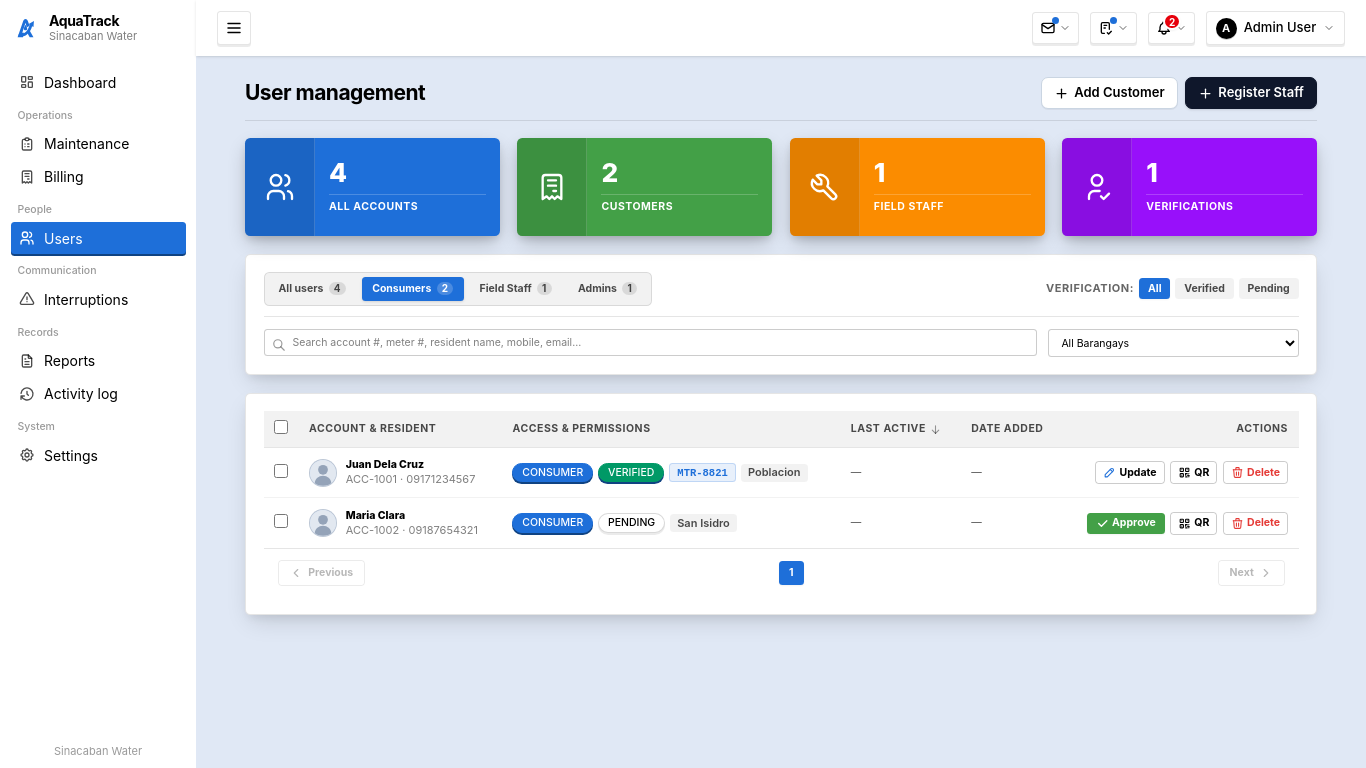
AdminUsersView (Consolidated Customers + Staff) › switches to Staff directory tab and displays field staff with task counts
Check: the text "Juan Dela Cruz" is shown, box x1=346 y1=458 x2=424 y2=471
Step 1. Click the button "Field Staff 1" → point(516, 289), box x1=469 y1=276 x2=562 y2=301
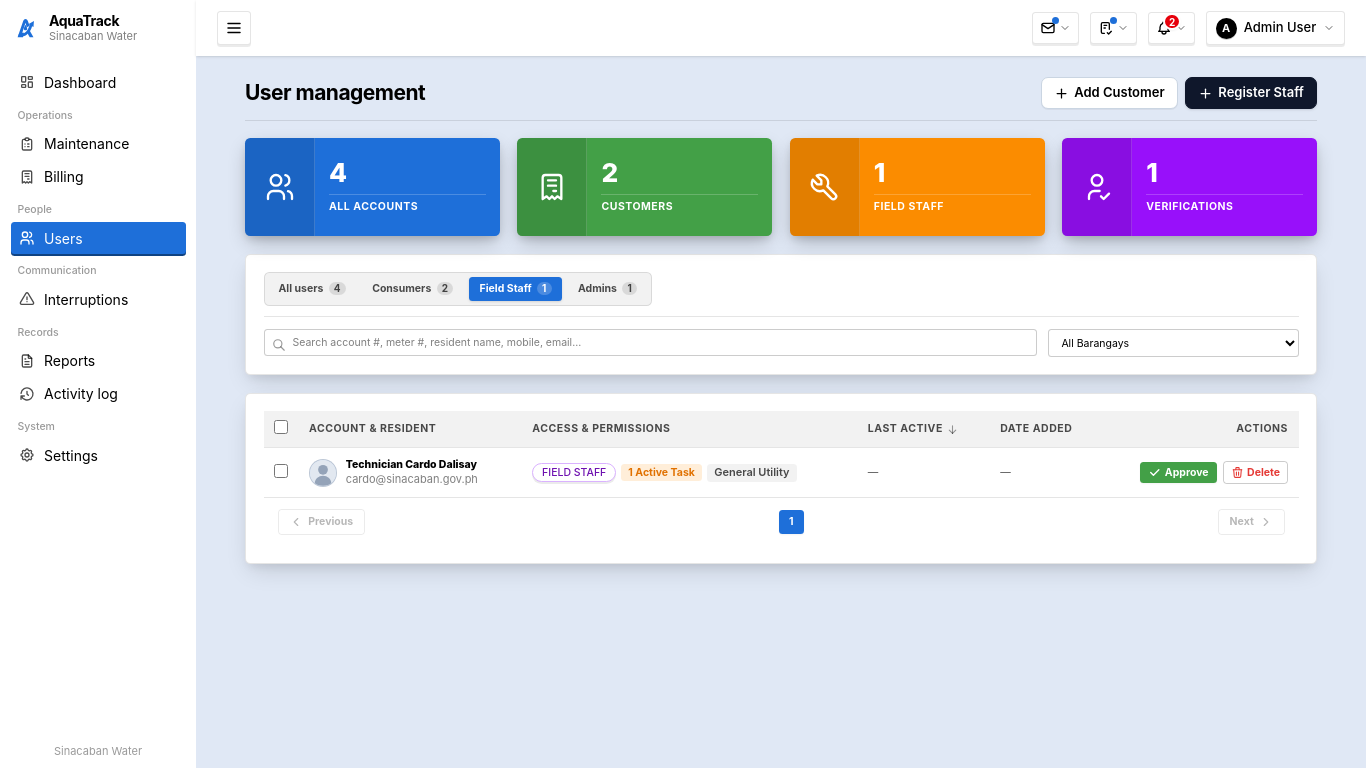
Check: the text "Technician Cardo Dalisay" is shown, box x1=346 y1=458 x2=478 y2=472
Check: the text "1 Active Task" is shown, box x1=621 y1=464 x2=702 y2=481
Check: the text "ACC-1001" is gone
